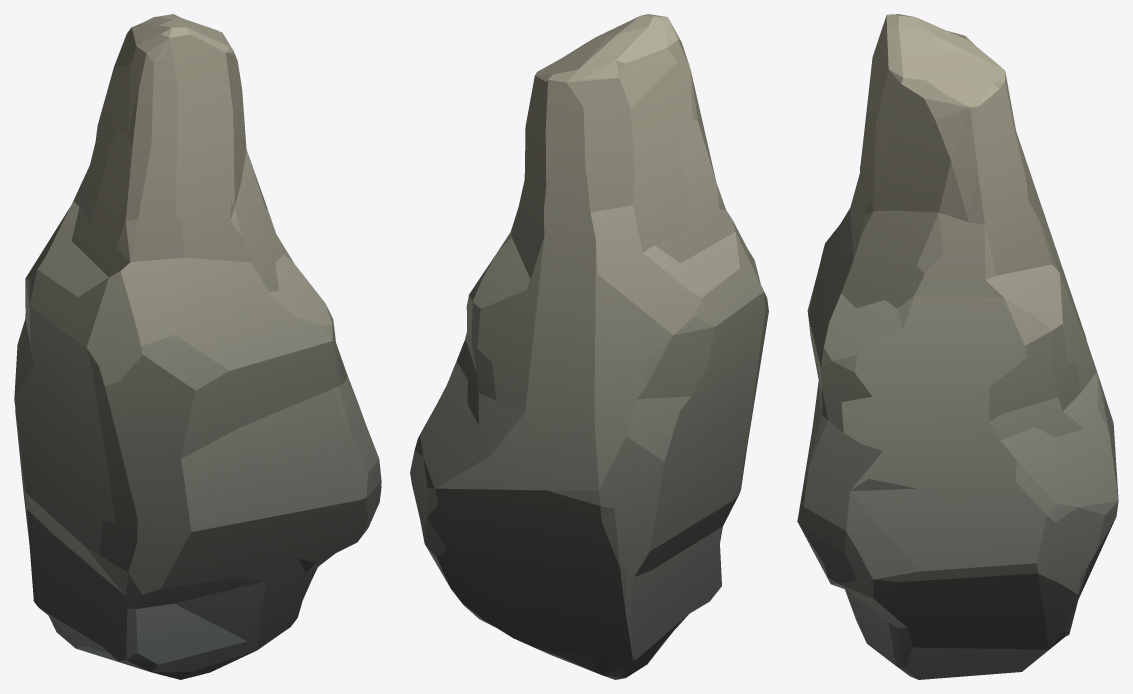
The model's file is rock_4_04.fbx.
3 renders of one model, left to right at view 1: azimuth 30°, elevation 25°; view 2: azimuth 150°, elevation 25°; view 3: azimuth 270°, elevation 25°, orthographic. The views are drawn at different scales.
Parts seen in each view (by area): view 1: rock_4_04; view 2: rock_4_04; view 3: rock_4_04.
Part boxes in pixels (box(x1,y1,x2,y2)): rock_4_04: box(14, 14, 381, 679); rock_4_04: box(410, 14, 768, 679); rock_4_04: box(797, 14, 1118, 679).
Size of the model in its own units: 114 by 236 by 110.
